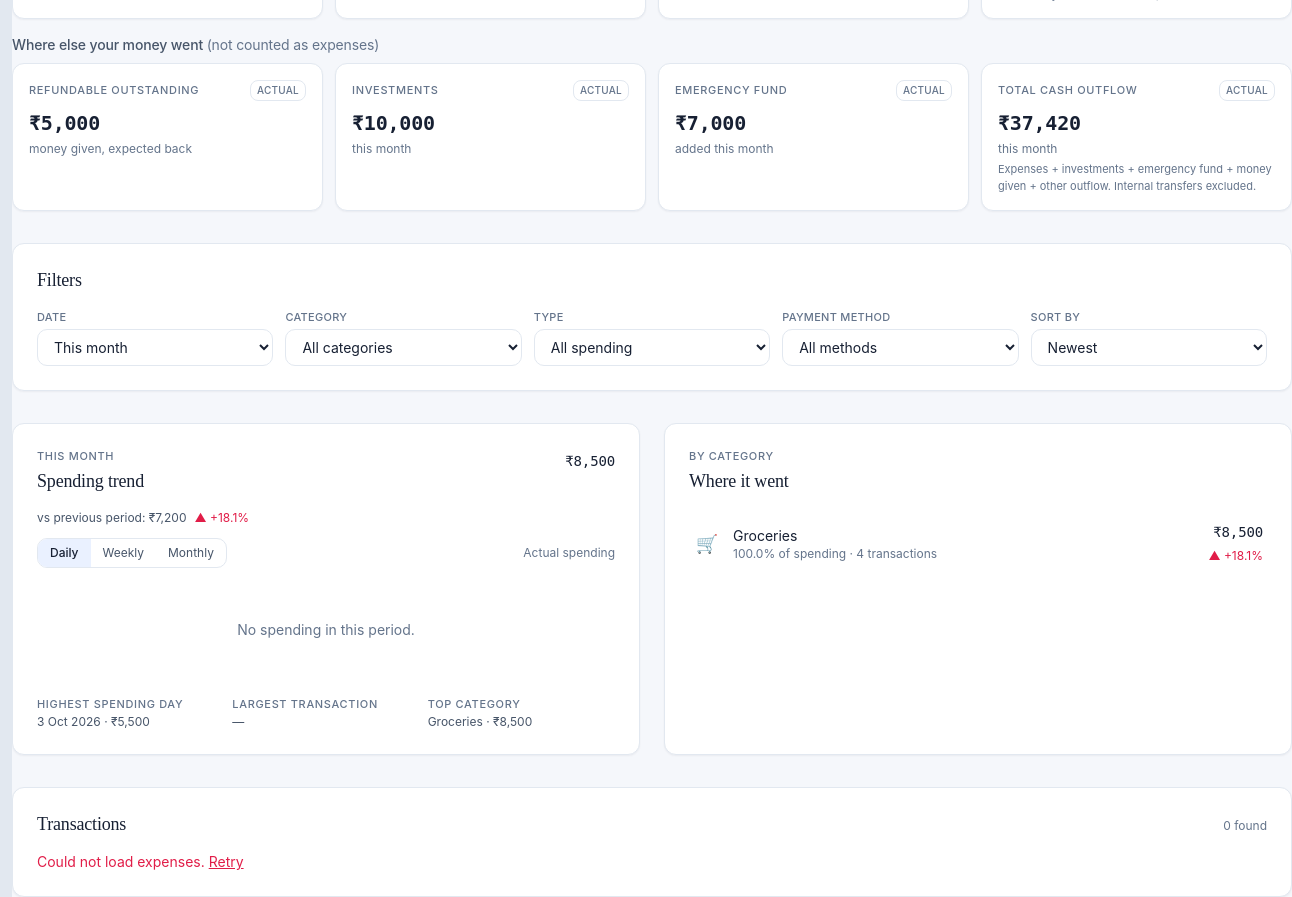
Test: ExpensesPage — transactions & pagination › shows a retryable error when the list fails to load
(page scrolled)
Check: the text "Could not load expenses. Retry" is shown, box [37,852,244,872]
Click the button "Retry": coordinates (226, 862) [209,852,244,872]
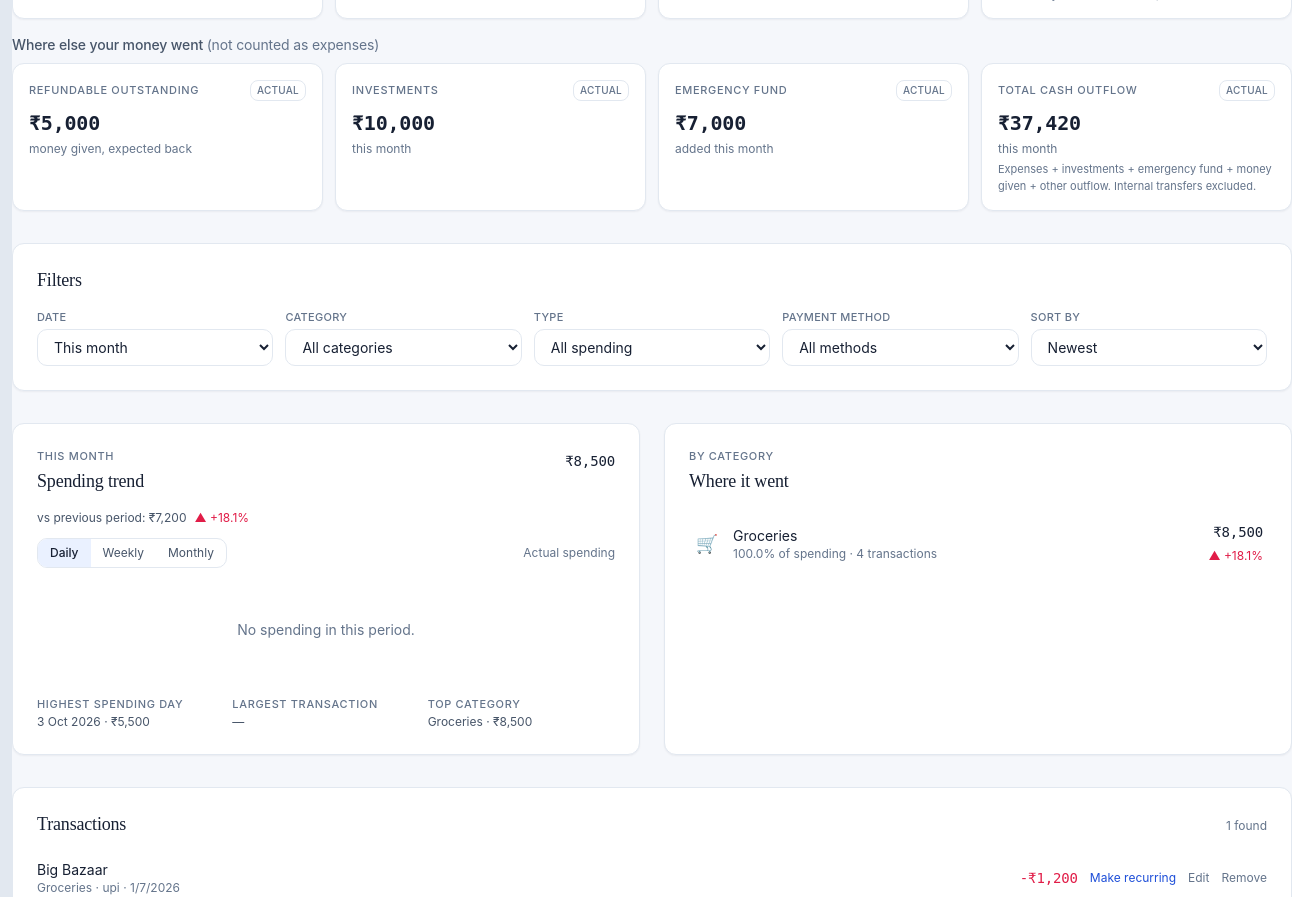
Check: the text "Big Bazaar" is shown, box [37,861,108,878]
